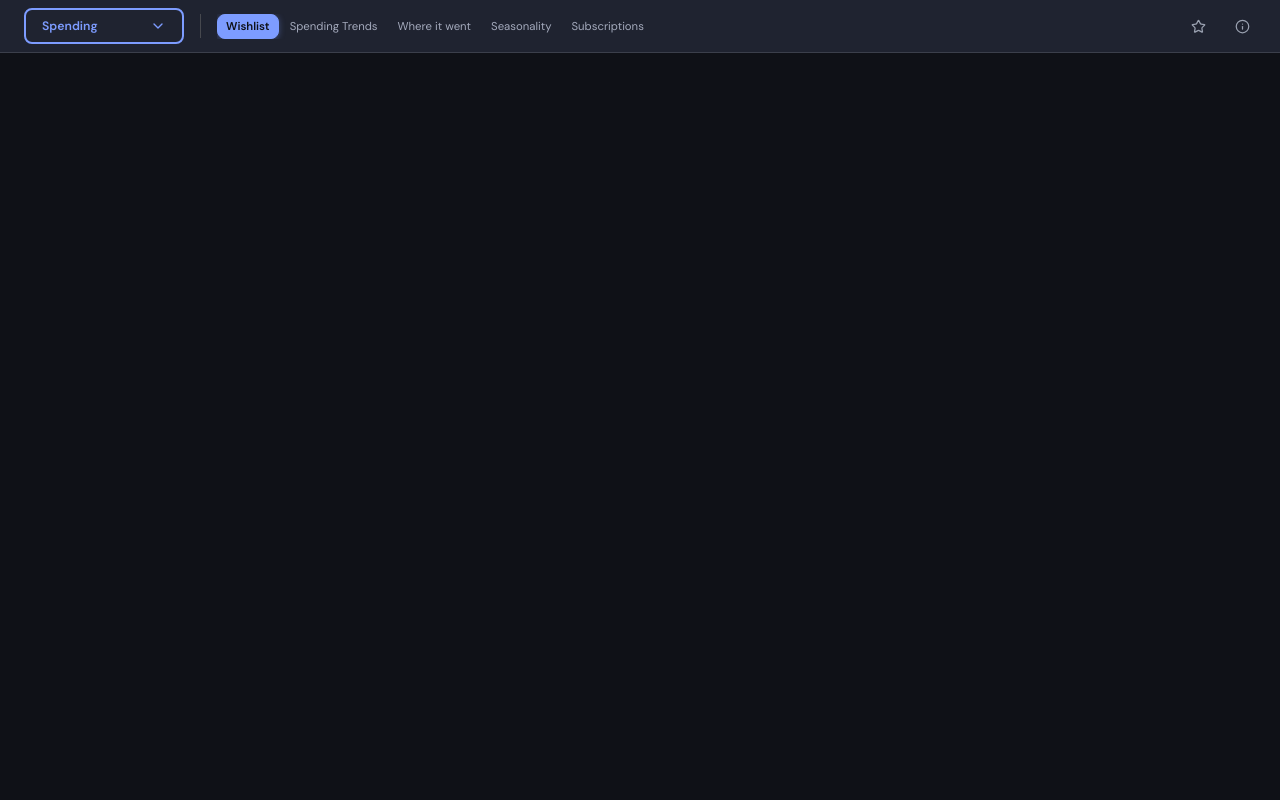
it: ReportsOverviewDialog › shows the scope sentence the report’s own info note uses
Step 1. Click the button named "About these reports" → (1242, 26), box [1228,12,1256,40]
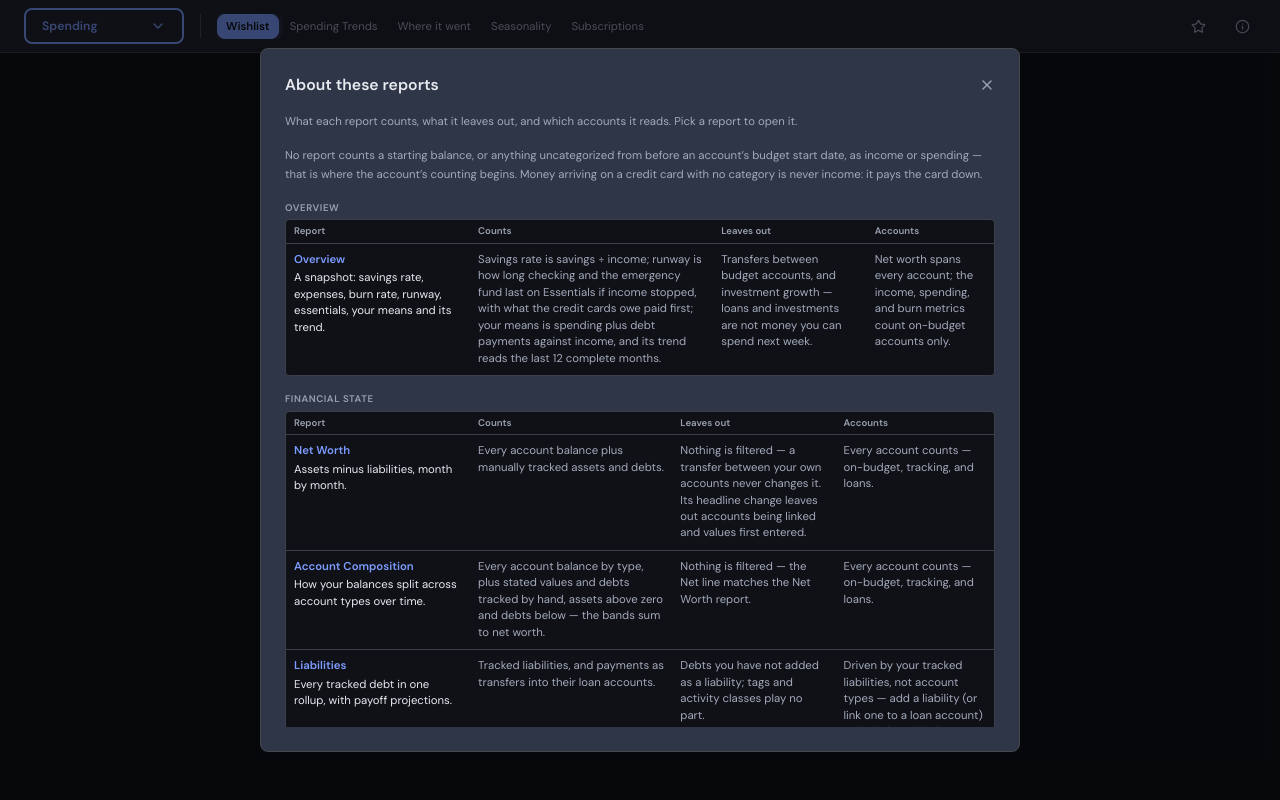
expect the row "Net Worth" shows "every account counts — on-budget, tracking, and loans.": met, box [844,443,974,491]
expect the row "Net Worth" shows "Nothing is filtered — a transfer between your own accounts never changes it. Its headline change leaves out accounts being linked and values first entered.": met, box [680,443,821,540]
